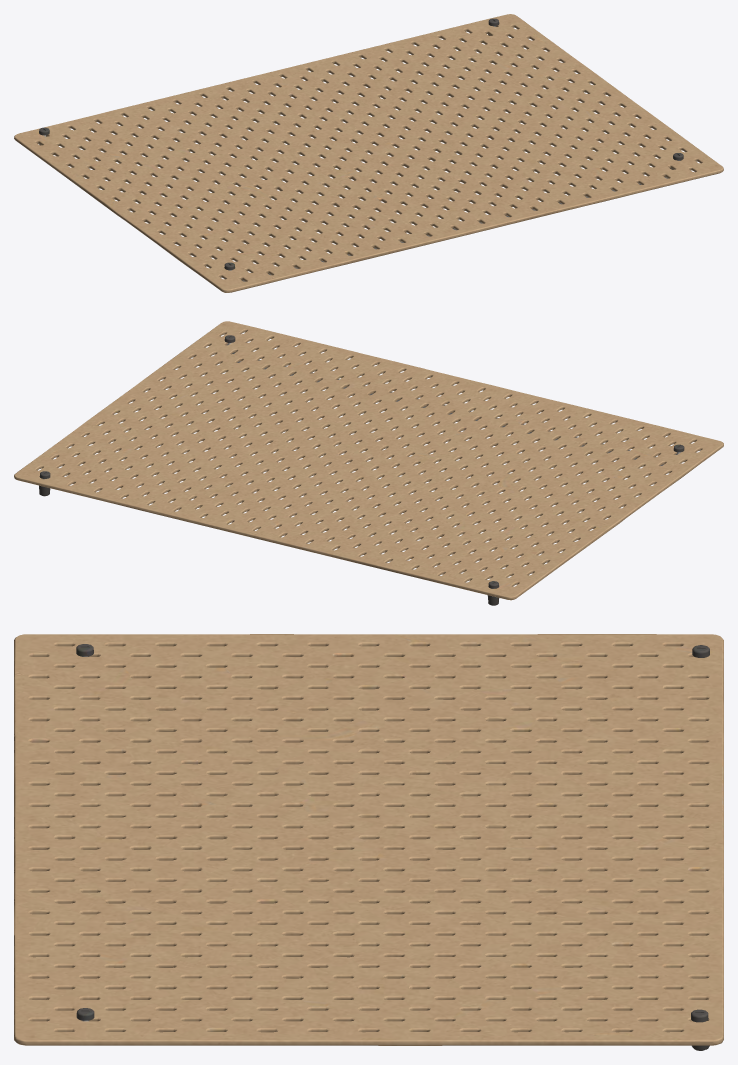
File: SK_DIS_10347171.glb
3 views of the same model, one above another, from view 1: azimuth 30°, elevation 25°; view 2: azimuth 150°, elevation 25°; view 3: azimuth 270°, elevation 25° (orthographic). The views are drawn at different scales.
Visible parts, largest first — view 1: 10347171-SKÃƒâ€¦DIS001; view 2: 10347171-SKÃƒâ€¦DIS001; view 3: 10347171-SKÃƒâ€¦DIS001.
Part boxes in pixels (left/top/right/bottom): 10347171-SKÃƒâ€¦DIS001: left=14, top=14, right=723, bottom=292; 10347171-SKÃƒâ€¦DIS001: left=14, top=321, right=723, bottom=605; 10347171-SKÃƒâ€¦DIS001: left=14, top=634, right=723, bottom=1050.
Bounding box in the file's own units: 0.7601 × 0.0321 × 0.56.
1 material, 1 textured.
